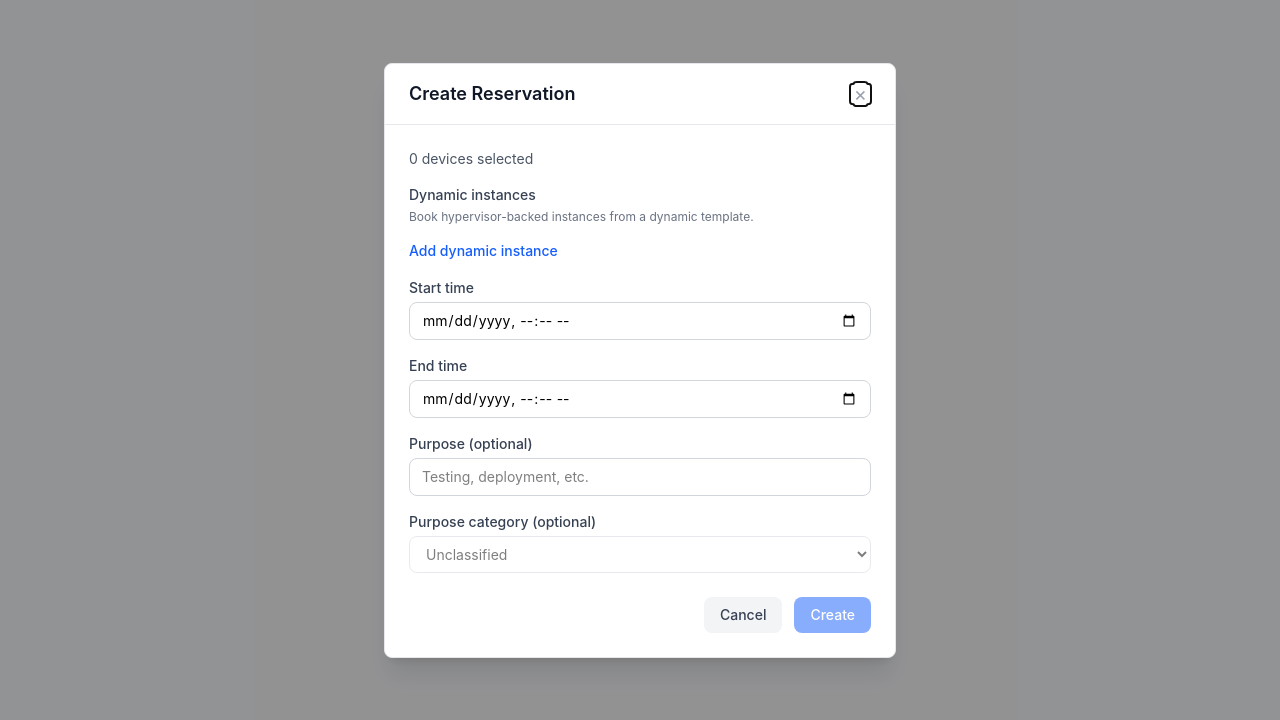
Scenario: CreateReservationModal › clamps the instance count to the 1..50 backend bounds
The width and height of the screenshot is (1280, 720).
Click the button "Add dynamic instance" at (483, 250), box [409,240,558,260]
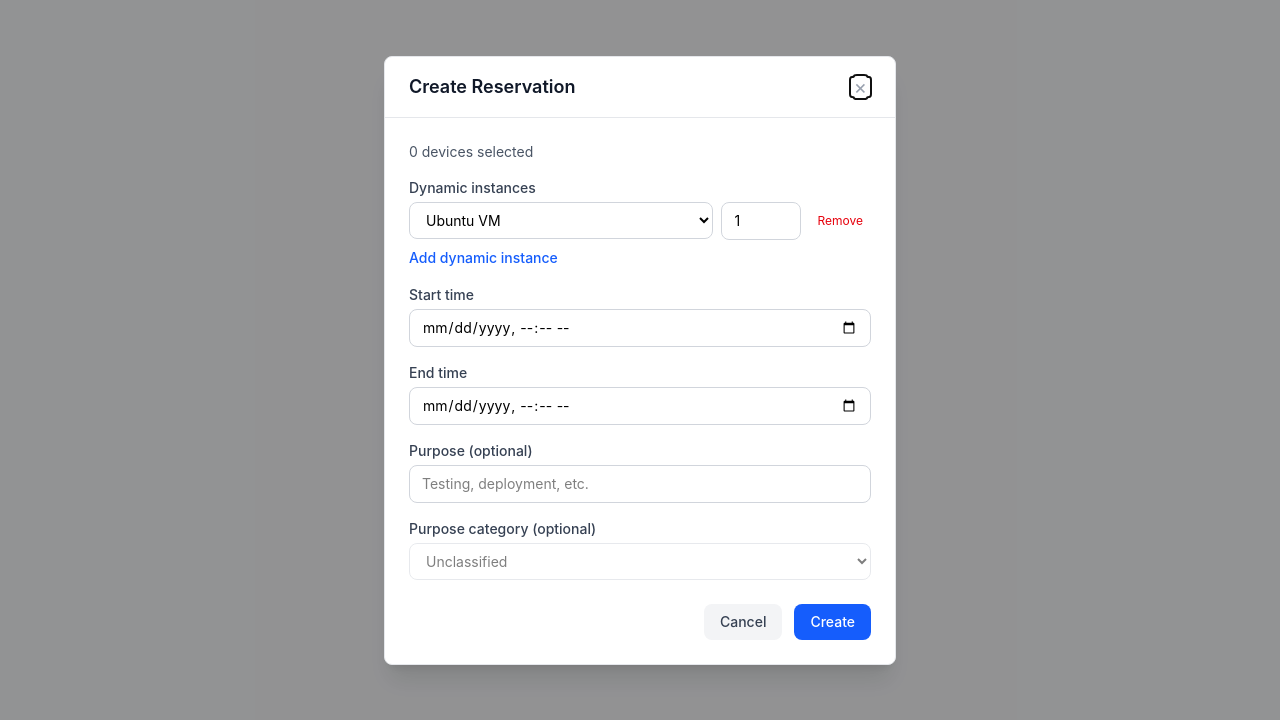
Replace the text in the number field named "Instance count 1" with "999" at (762, 220), box [722,202,802,240]
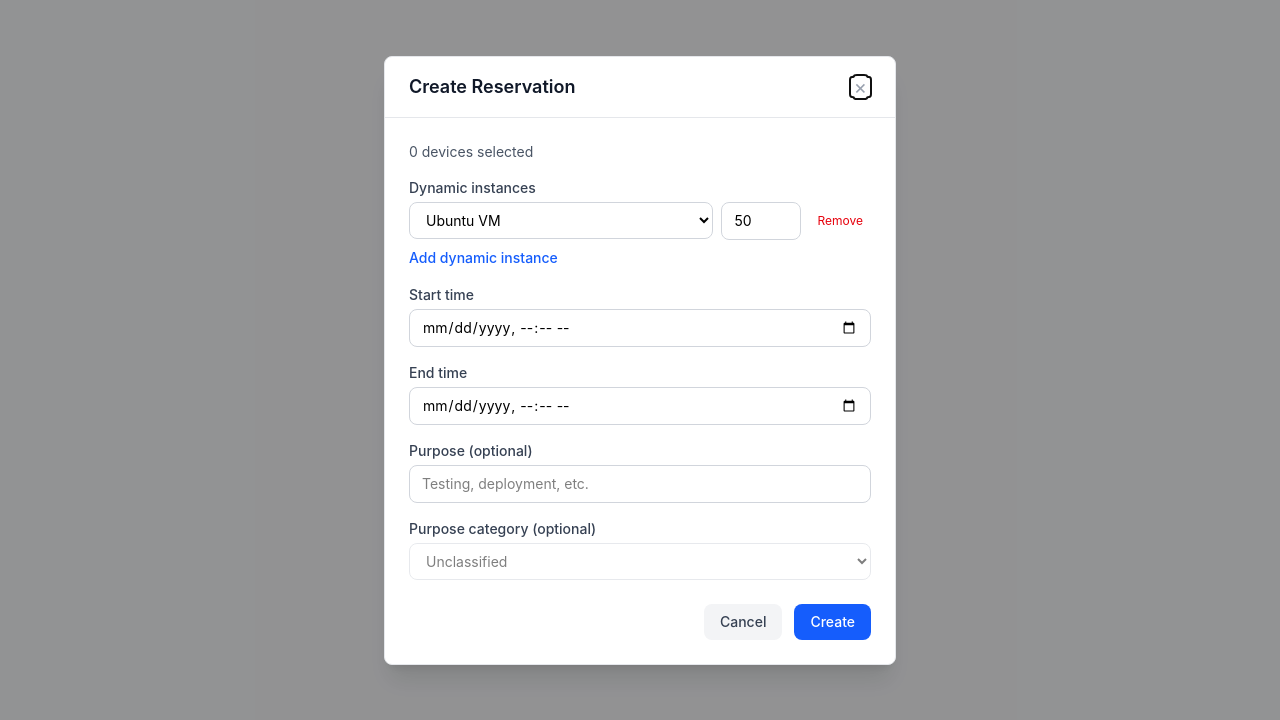
Check: the number field named "Instance count 1" holds "50"
Replace the text in the number field named "Instance count 1" with "0" at (762, 220), box [722,202,802,240]
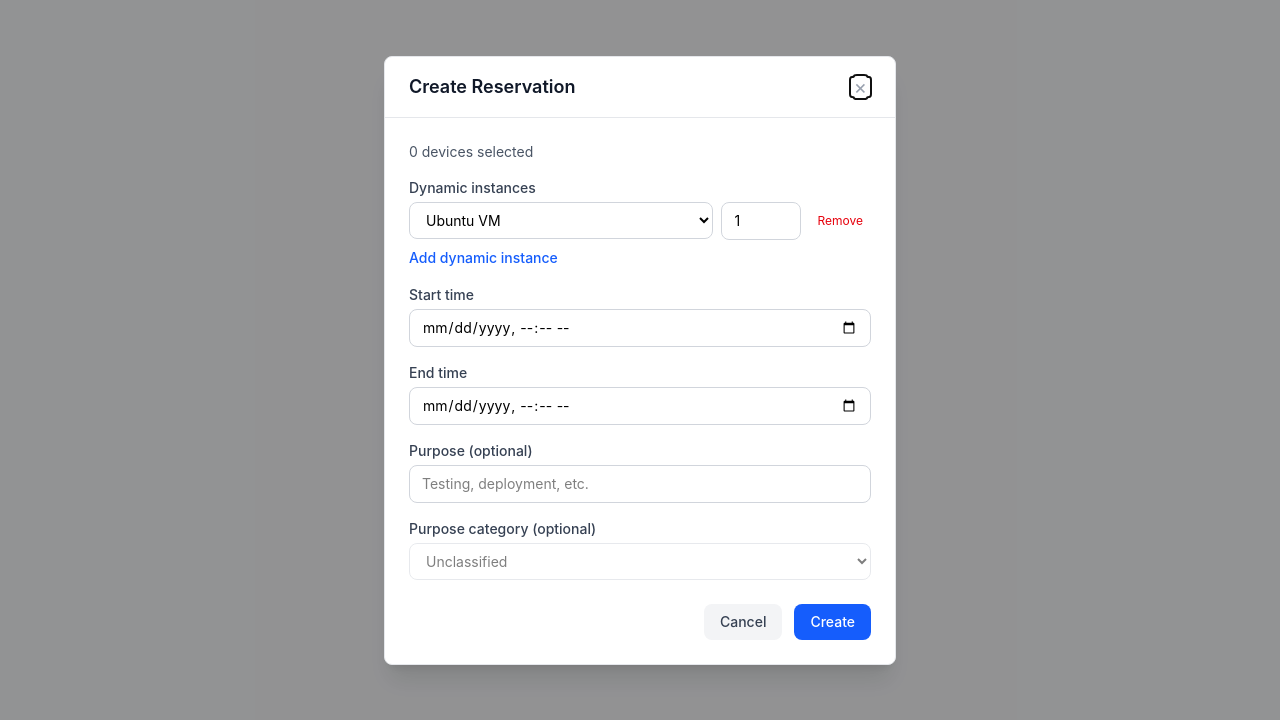
Check: the number field named "Instance count 1" holds "1", box [722,202,802,240]
